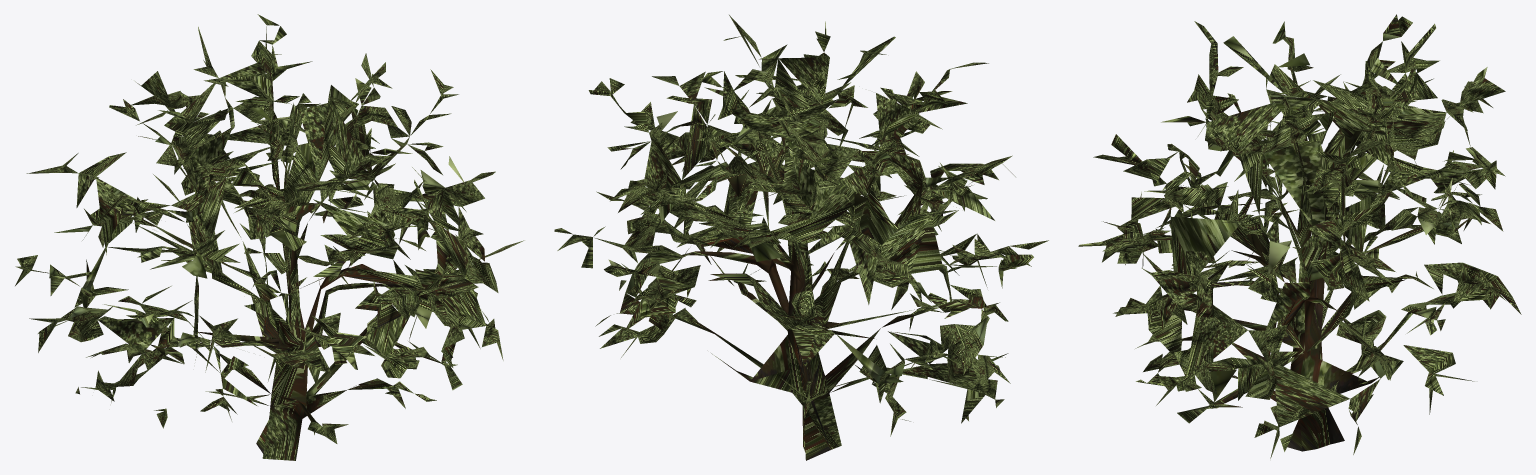
Rendered from lush-shrub.glb.
3 renders of one model, left to right at view 1: azimuth 30°, elevation 25°; view 2: azimuth 150°, elevation 25°; view 3: azimuth 270°, elevation 25°, orthographic. The views are drawn at different scales.
Visible parts, largest first — view 1: tripo_node_7ab10a6f-49a0-497d-ac95-735f63ddd2bd (×2); view 2: tripo_node_7ab10a6f-49a0-497d-ac95-735f63ddd2bd (×2); view 3: tripo_node_7ab10a6f-49a0-497d-ac95-735f63ddd2bd (×2).
Part boxes in pixels (x1,y1,x2,y2): tripo_node_7ab10a6f-49a0-497d-ac95-735f63ddd2bd (×2): (15,14,524,460); tripo_node_7ab10a6f-49a0-497d-ac95-735f63ddd2bd (×2): (554,15,1048,460); tripo_node_7ab10a6f-49a0-497d-ac95-735f63ddd2bd (×2): (1078,14,1521,458).
Size of the model in its own units: 1.55 by 1.3 by 1.28.
Materials: 1 (1 with a texture image).
